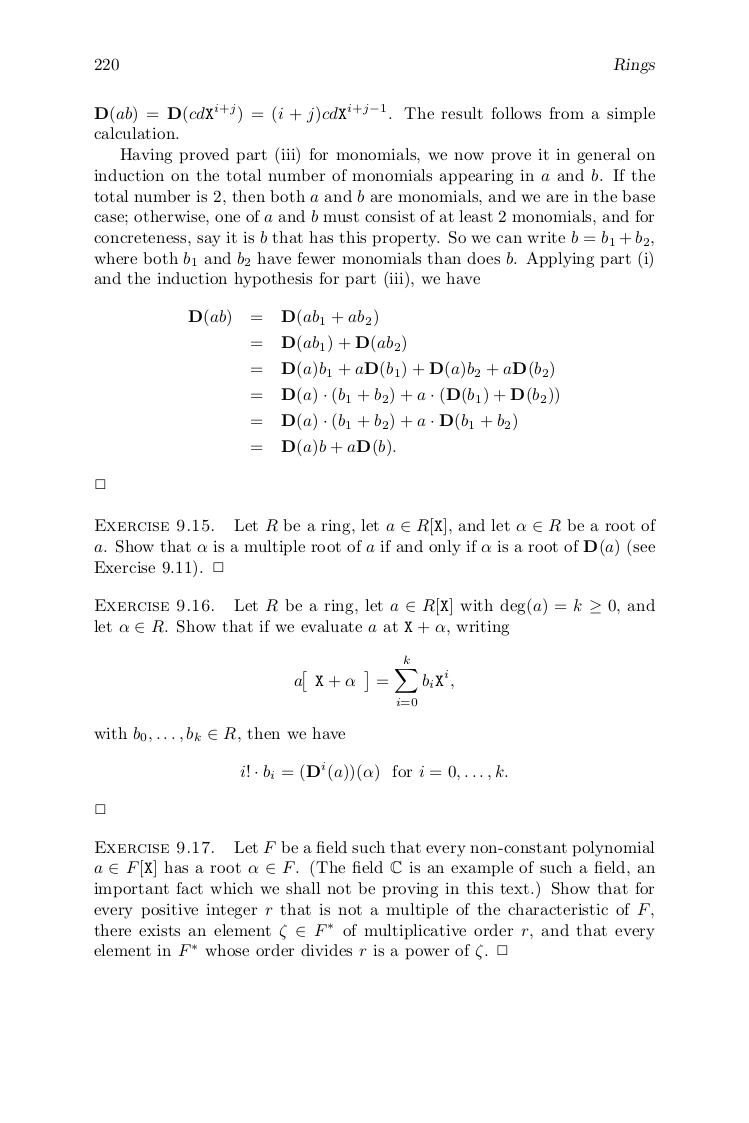formula: (294, 655, 453, 706), (251, 386, 558, 405), (251, 360, 553, 379), (240, 761, 507, 782), (251, 412, 516, 431), (188, 308, 377, 327), (251, 334, 405, 353), (251, 438, 395, 457)
